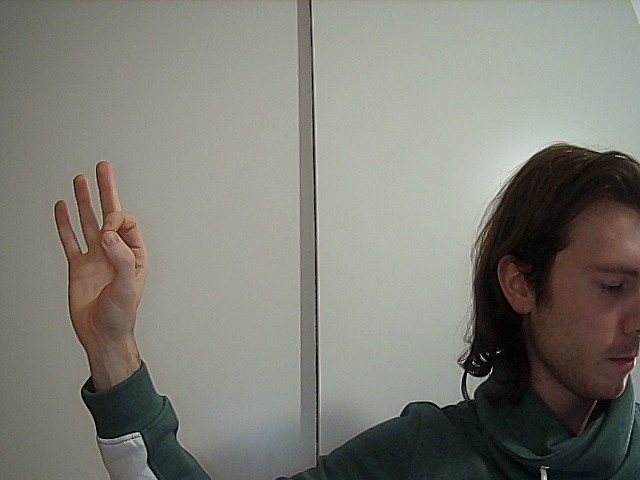f: (24, 153, 180, 333)
